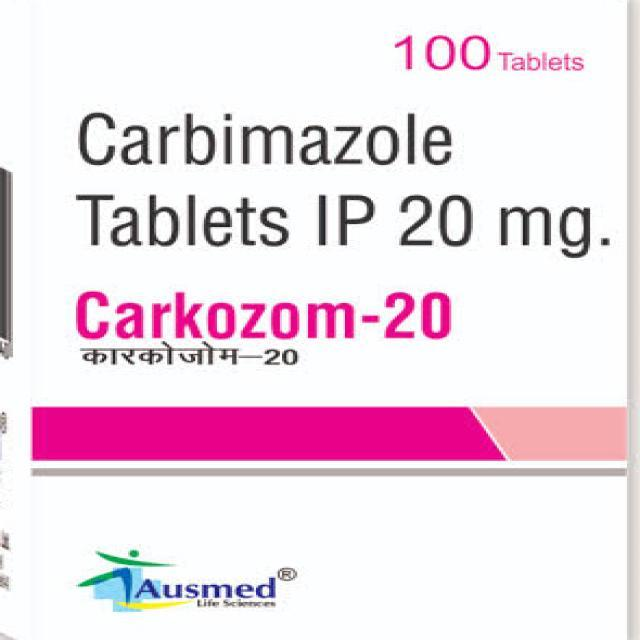drug-name: (73, 286, 454, 341)
